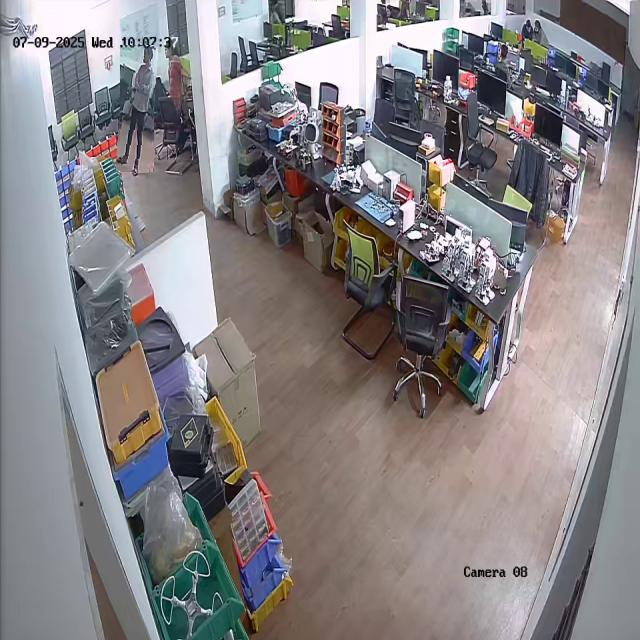person: (118, 45, 156, 172)
